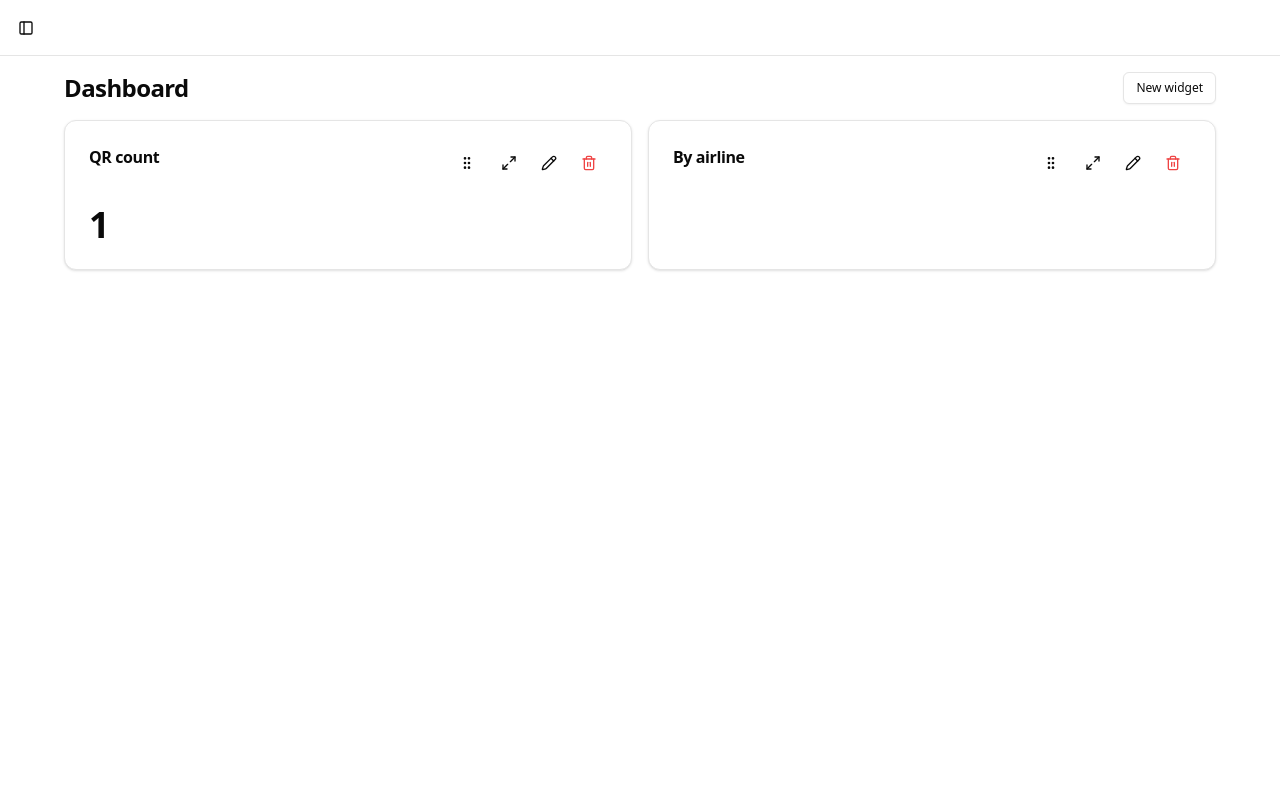
DashboardPage › toasts when deleting a widget fails
Click the button named "Delete QR count". click: (589, 163)
box: [571, 145, 607, 181]
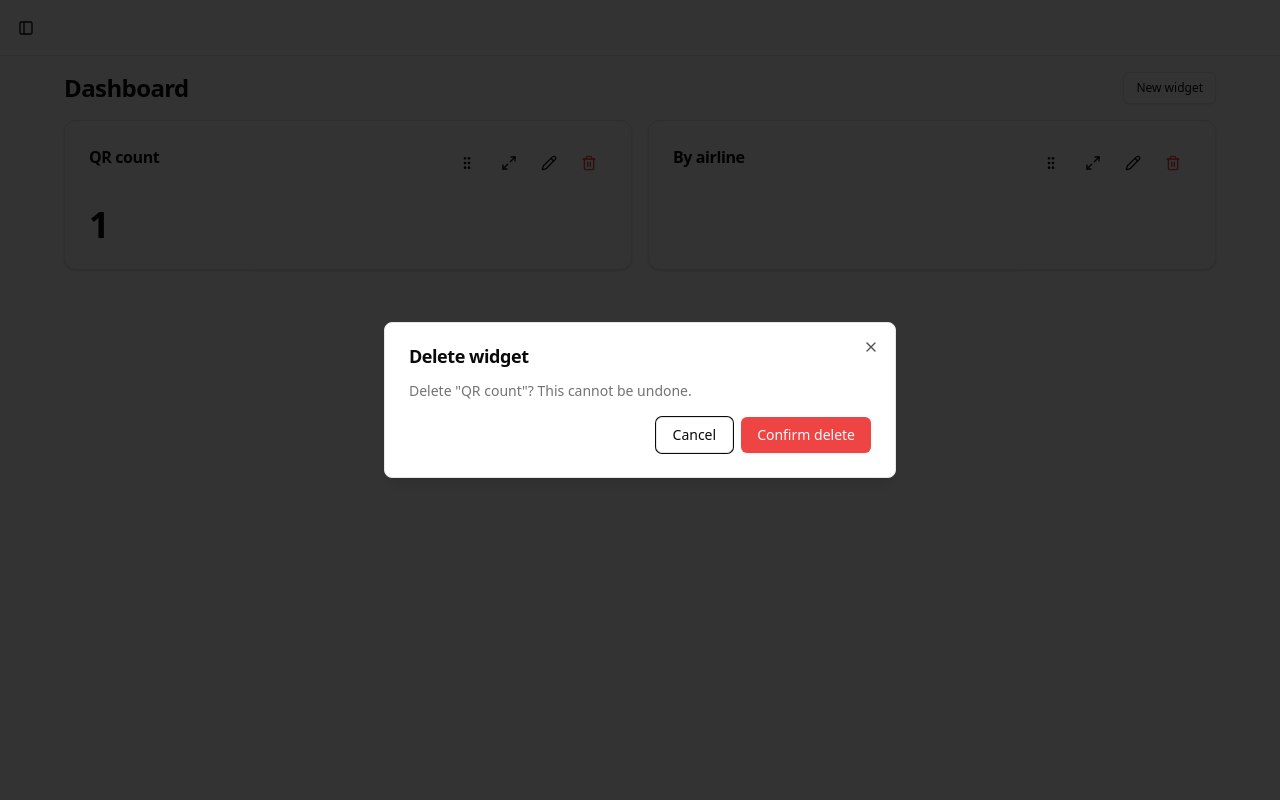
Click the button "Confirm delete". click: (806, 435)
box: [741, 417, 871, 453]
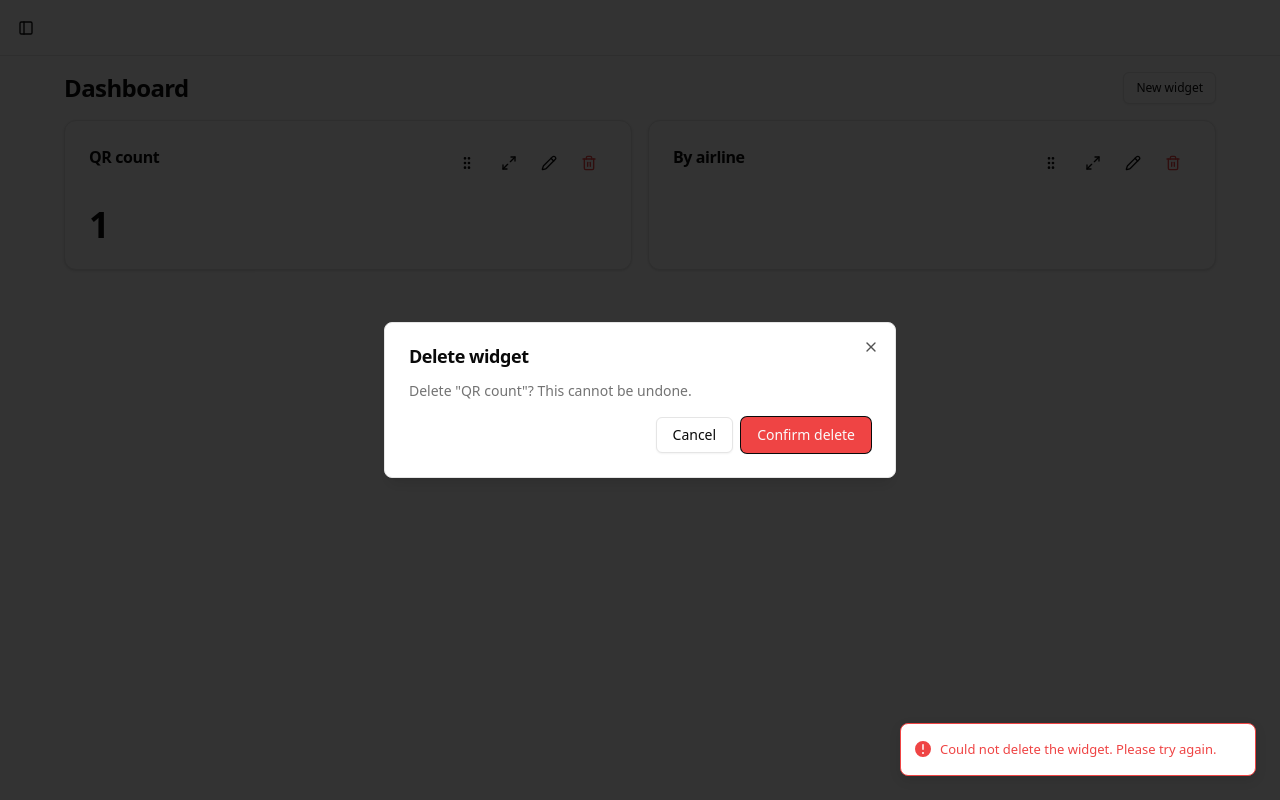
Expected: the text "Could not delete the widget. Please try again." is shown, [940, 740, 1216, 759]
